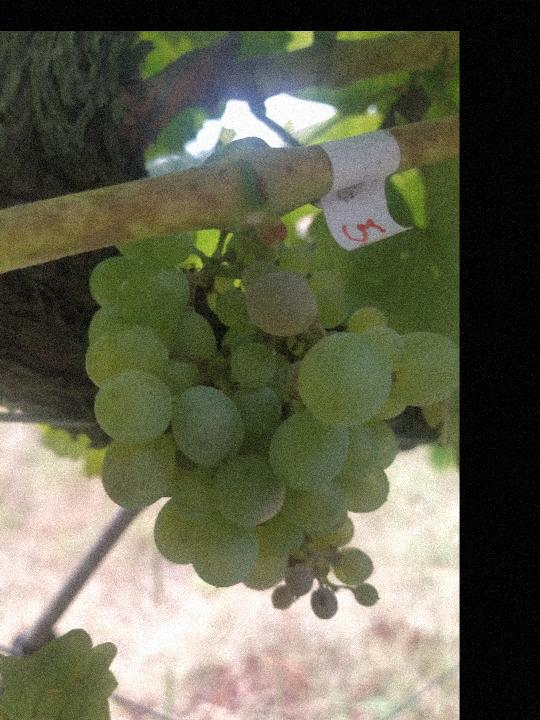grape: (80, 213, 469, 622)
